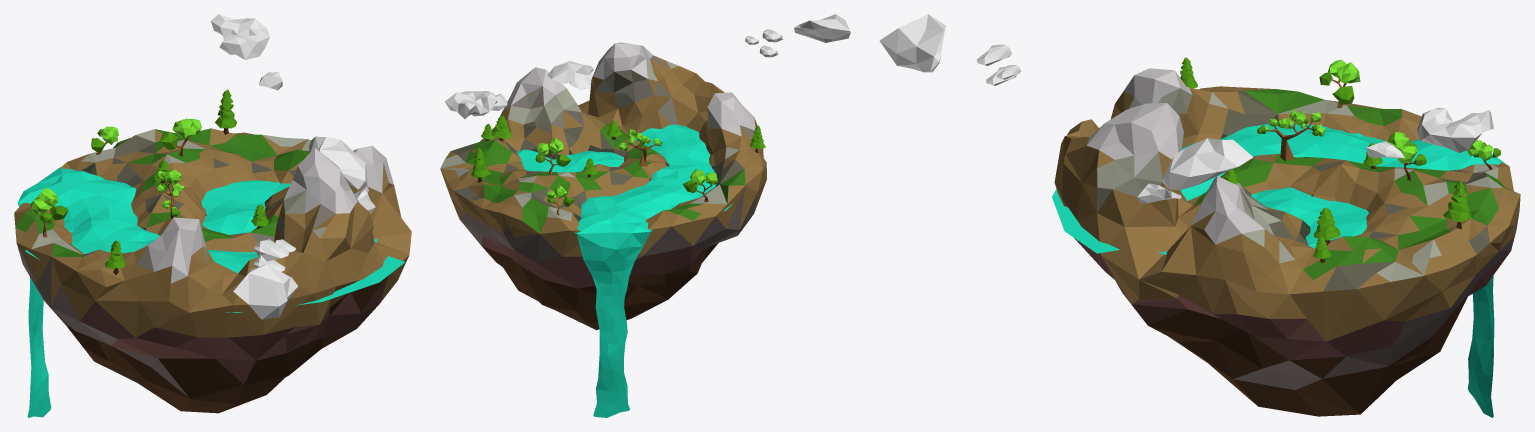
The model's file is Low_Poly_Island.glb.
The picture shows the model from 3 angles, left to right: view 1: azimuth 30°, elevation 25°; view 2: azimuth 150°, elevation 25°; view 3: azimuth 270°, elevation 25°; orthographic projection. The views are drawn at different scales.
Visible parts, largest first — view 1: Icosphere.001, Plane.003, Icosphere.006, Icosphere.002, Icosphere, Cube, Plane.002, Icosphere.003, Plane.007; view 2: Icosphere.001, Plane.003, Icosphere.006, Icosphere, Cube, Icosphere.002; view 3: Icosphere.001, Plane.003, Icosphere.006, Cube, Icosphere.002, Icosphere, Plane.002, Plane.005.
Boxes of the visible parts, bbox=[...] form: Icosphere.001: bbox=[14, 128, 411, 413]; Plane.003: bbox=[17, 167, 404, 417]; Icosphere.006: bbox=[211, 14, 375, 319]; Icosphere.002: bbox=[30, 187, 67, 237]; Icosphere: bbox=[160, 118, 201, 156]; Cube: bbox=[157, 169, 184, 224]; Plane.002: bbox=[215, 89, 236, 134]; Icosphere.003: bbox=[91, 126, 118, 154]; Plane.007: bbox=[105, 240, 125, 274]; Icosphere.001: bbox=[440, 42, 766, 329]; Plane.003: bbox=[517, 124, 733, 417]; Icosphere.006: bbox=[444, 14, 850, 118]; Icosphere: bbox=[535, 137, 570, 174]; Cube: bbox=[618, 129, 662, 166]; Icosphere.002: bbox=[683, 169, 718, 202]; Icosphere.001: bbox=[1054, 68, 1520, 416]; Plane.003: bbox=[1052, 123, 1506, 417]; Icosphere.006: bbox=[879, 14, 1493, 203]; Cube: bbox=[1257, 109, 1325, 160]; Icosphere.002: bbox=[1319, 59, 1360, 107]; Icosphere: bbox=[1388, 132, 1426, 180]; Plane.002: bbox=[1443, 180, 1471, 229]; Plane.005: bbox=[1313, 208, 1340, 245].
Size of the model in its own units: 18.72 by 18.71 by 27.14.
